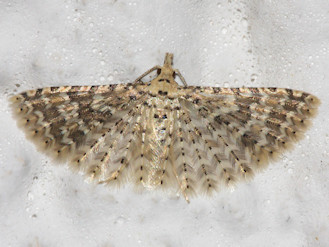Alucitidae: (10, 43, 324, 204)
moth: (8, 41, 322, 202)
